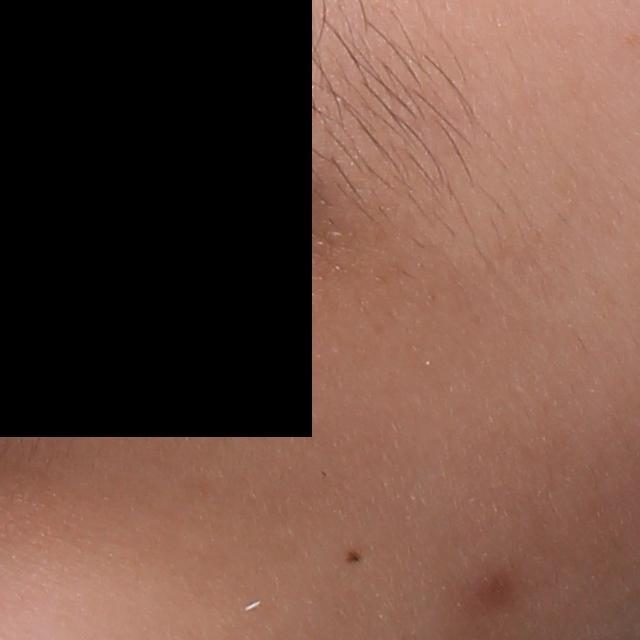nevus: (345, 549, 363, 564)
